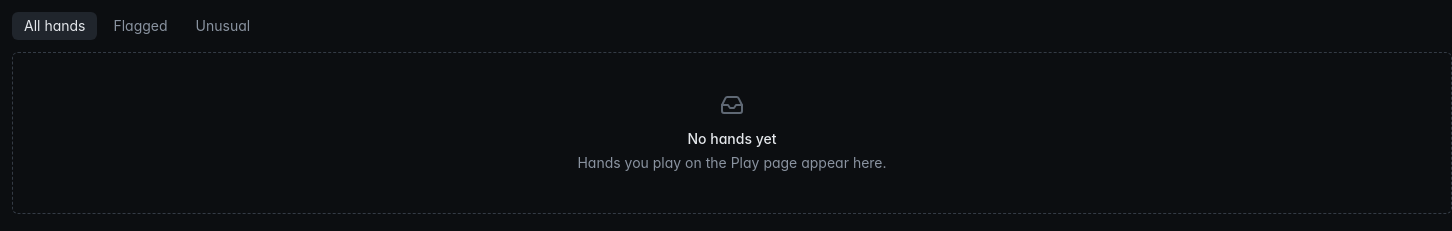
Scenario: YourHands › filters by verdict and says when nothing matches
Check: the text "No hands yet" is shown, box [688,129,776,149]
Click the tab "Flagged" at (141, 26), box [102,12,180,40]
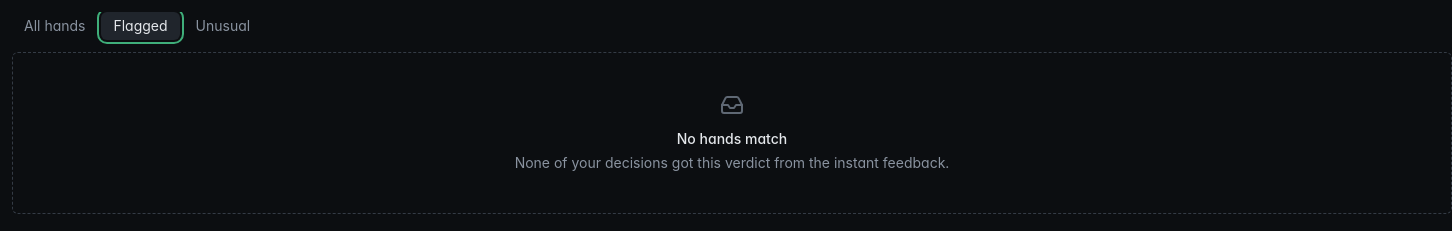
Check: the text "No hands match" is shown, box [677,129,787,149]
